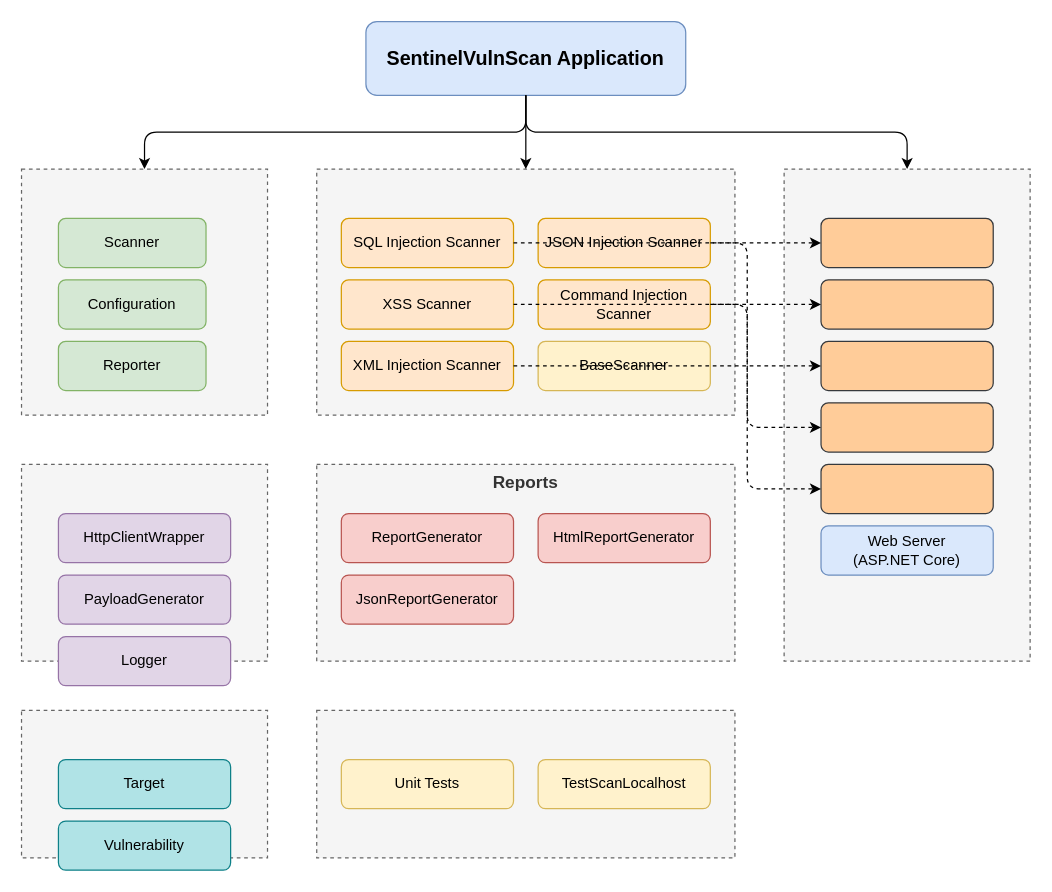
This 1052x892 diagram has some shape labels left out. Here are the shapes that lost their labels. From the top down, the box of each, then its label:
(820, 217, 993, 268): SQL Injection Endpoints
(20, 168, 268, 415): Core Components
(315, 168, 735, 415): Vulnerability Scanners
(820, 279, 993, 329): XSS Endpoints
(820, 340, 993, 391): XML Injection Endpoints
(783, 168, 1030, 661): VulnerableTestServer
(820, 402, 993, 452): JSON Injection Endpoints
(820, 463, 993, 514): Command Injection Endpoints
(20, 463, 268, 661): Utilities
(20, 709, 268, 858): Models
(315, 709, 735, 858): Testing
